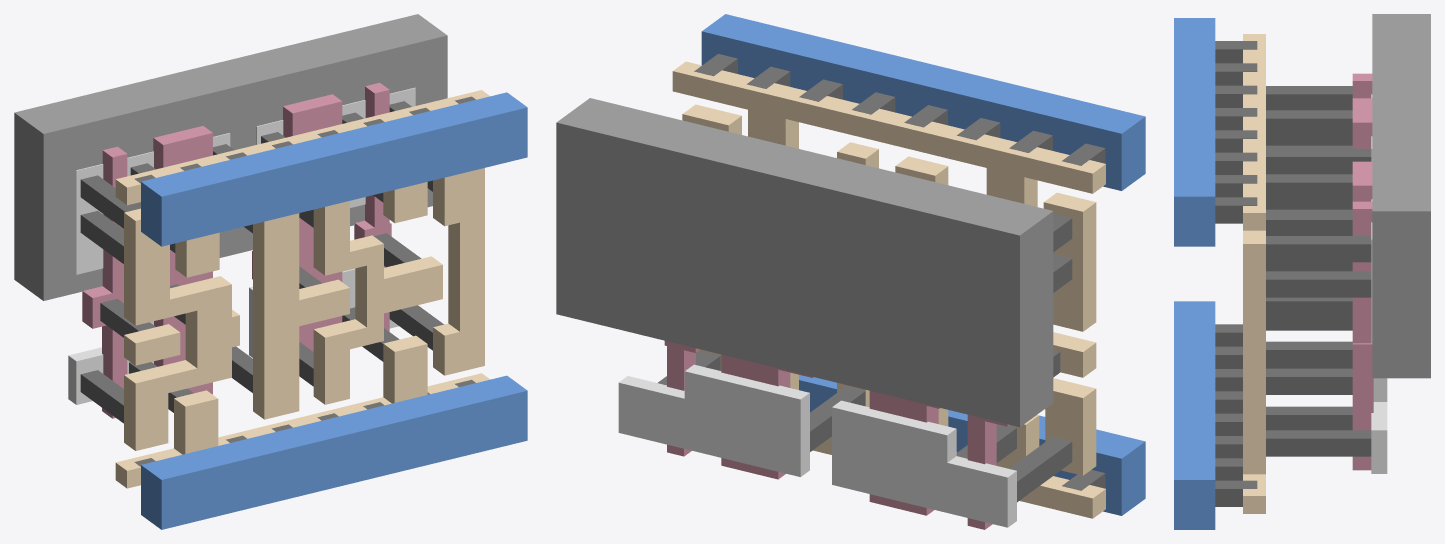
Rendered from sky130_fd_sc_hd__clkdlybuf4s50_1.gds.gltf.
The picture shows the model from 3 angles, left to right: view 1: azimuth 30°, elevation 25°; view 2: azimuth 150°, elevation 25°; view 3: azimuth 270°, elevation 25°; orthographic projection. The views are drawn at different scales.
Parts seen in each view (by area): view 1: sky130_fd_sc_hd__clkdlybuf4s50_1_li1, sky130_fd_sc_hd__clkdlybuf4s50_1_met1, sky130_fd_sc_hd__clkdlybuf4s50_1_nwell, sky130_fd_sc_hd__clkdlybuf4s50_1_poly, sky130_fd_sc_hd__clkdlybuf4s50_1_licon, sky130_fd_sc_hd__clkdlybuf4s50_1_diff, sky130_fd_sc_hd__clkdlybuf4s50_1_mcon; view 2: sky130_fd_sc_hd__clkdlybuf4s50_1_nwell, sky130_fd_sc_hd__clkdlybuf4s50_1_li1, sky130_fd_sc_hd__clkdlybuf4s50_1_diff, sky130_fd_sc_hd__clkdlybuf4s50_1_met1, sky130_fd_sc_hd__clkdlybuf4s50_1_poly, sky130_fd_sc_hd__clkdlybuf4s50_1_licon, sky130_fd_sc_hd__clkdlybuf4s50_1_mcon; view 3: sky130_fd_sc_hd__clkdlybuf4s50_1_licon, sky130_fd_sc_hd__clkdlybuf4s50_1_nwell, sky130_fd_sc_hd__clkdlybuf4s50_1_met1, sky130_fd_sc_hd__clkdlybuf4s50_1_mcon, sky130_fd_sc_hd__clkdlybuf4s50_1_li1, sky130_fd_sc_hd__clkdlybuf4s50_1_poly, sky130_fd_sc_hd__clkdlybuf4s50_1_diff.
Boxes of the visible parts, x1=… form: sky130_fd_sc_hd__clkdlybuf4s50_1_li1: x1=115, y1=90, x2=489, y2=488; sky130_fd_sc_hd__clkdlybuf4s50_1_met1: x1=141, y1=92, x2=527, y2=529; sky130_fd_sc_hd__clkdlybuf4s50_1_nwell: x1=14, y1=14, x2=447, y2=300; sky130_fd_sc_hd__clkdlybuf4s50_1_poly: x1=82, y1=82, x2=391, y2=418; sky130_fd_sc_hd__clkdlybuf4s50_1_licon: x1=80, y1=101, x2=443, y2=423; sky130_fd_sc_hd__clkdlybuf4s50_1_diff: x1=68, y1=87, x2=415, y2=404; sky130_fd_sc_hd__clkdlybuf4s50_1_mcon: x1=134, y1=96, x2=475, y2=466; sky130_fd_sc_hd__clkdlybuf4s50_1_nwell: x1=556, y1=98, x2=1053, y2=427; sky130_fd_sc_hd__clkdlybuf4s50_1_li1: x1=672, y1=61, x2=1105, y2=518; sky130_fd_sc_hd__clkdlybuf4s50_1_diff: x1=618, y1=364, x2=1016, y2=527; sky130_fd_sc_hd__clkdlybuf4s50_1_met1: x1=701, y1=14, x2=1145, y2=515; sky130_fd_sc_hd__clkdlybuf4s50_1_poly: x1=664, y1=341, x2=1009, y2=529; sky130_fd_sc_hd__clkdlybuf4s50_1_licon: x1=658, y1=213, x2=1072, y2=502; sky130_fd_sc_hd__clkdlybuf4s50_1_mcon: x1=694, y1=54, x2=1105, y2=490; sky130_fd_sc_hd__clkdlybuf4s50_1_licon: x1=1266, y1=86, x2=1371, y2=456; sky130_fd_sc_hd__clkdlybuf4s50_1_nwell: x1=1372, y1=14, x2=1430, y2=378; sky130_fd_sc_hd__clkdlybuf4s50_1_met1: x1=1174, y1=18, x2=1215, y2=529; sky130_fd_sc_hd__clkdlybuf4s50_1_mcon: x1=1215, y1=41, x2=1257, y2=506; sky130_fd_sc_hd__clkdlybuf4s50_1_li1: x1=1243, y1=34, x2=1265, y2=513; sky130_fd_sc_hd__clkdlybuf4s50_1_poly: x1=1352, y1=73, x2=1373, y2=470; sky130_fd_sc_hd__clkdlybuf4s50_1_diff: x1=1371, y1=94, x2=1387, y2=473.
Bounding box in the file's own units: 4.06 × 3.2 × 2.24.
